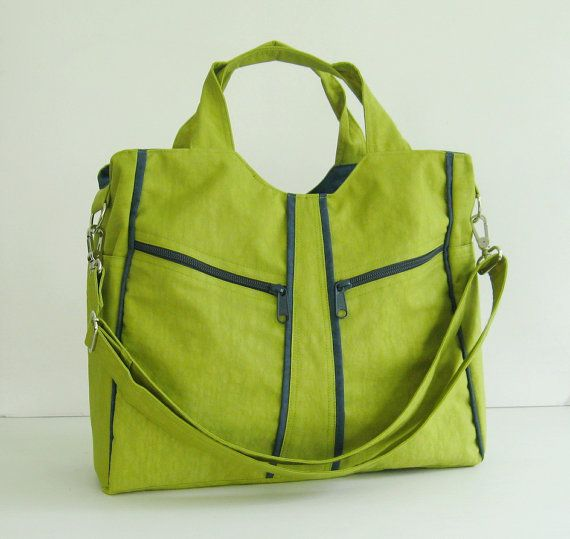nylon: (83, 40, 508, 494)
